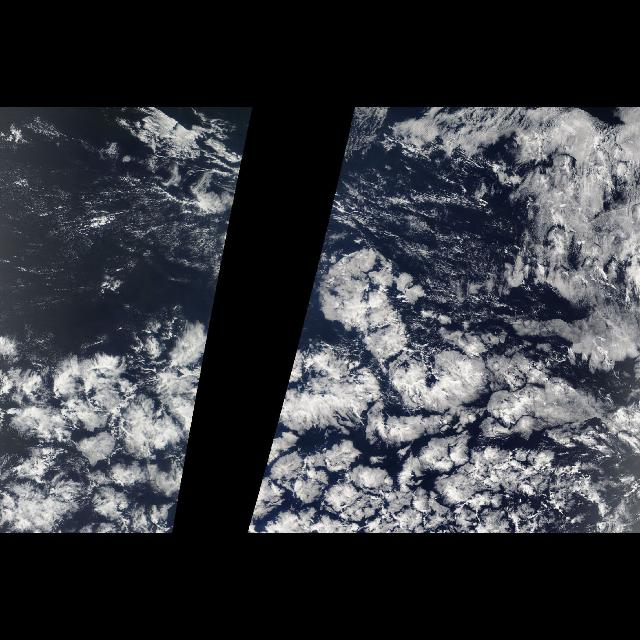Flower: (245, 302, 640, 534), (2, 302, 215, 534)
Sugar: (2, 109, 210, 305)
